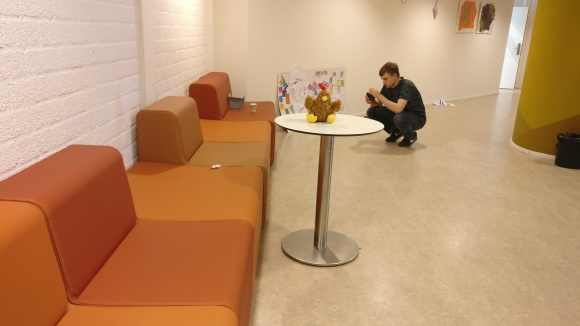chicken: (304, 82, 343, 124)
